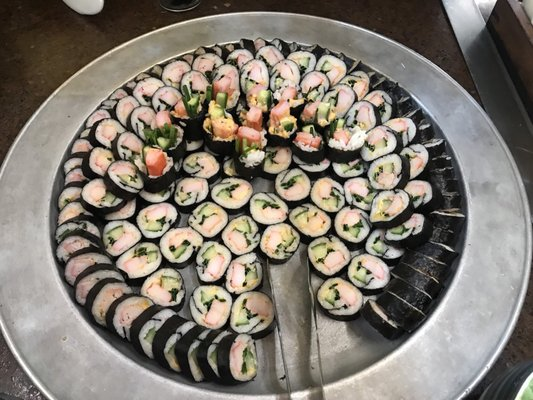pizza: (158, 0, 203, 13)
